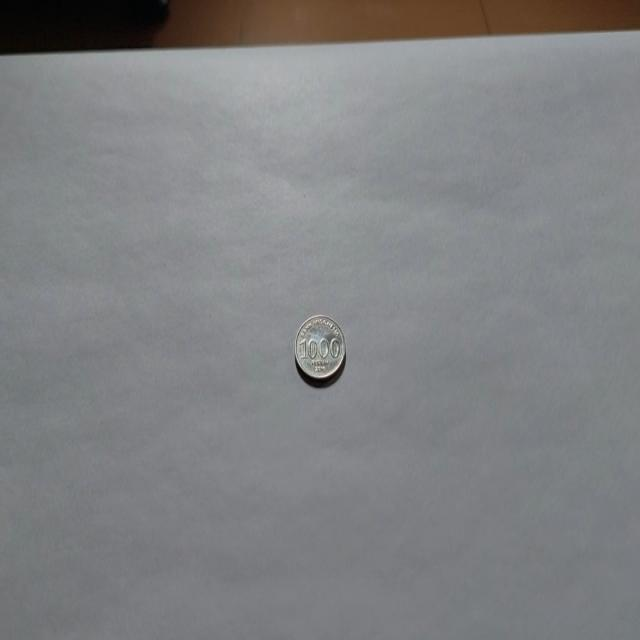seribu rupiah koin: (293, 313, 346, 383)
